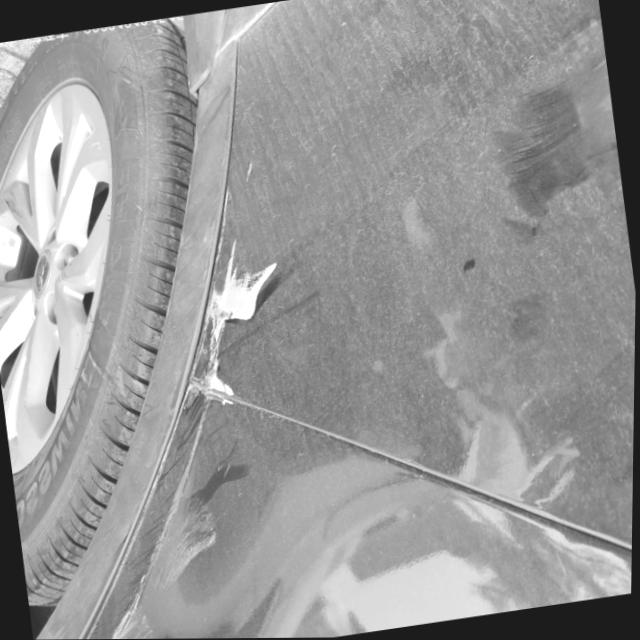Paint-fading: (188, 239, 276, 403)
